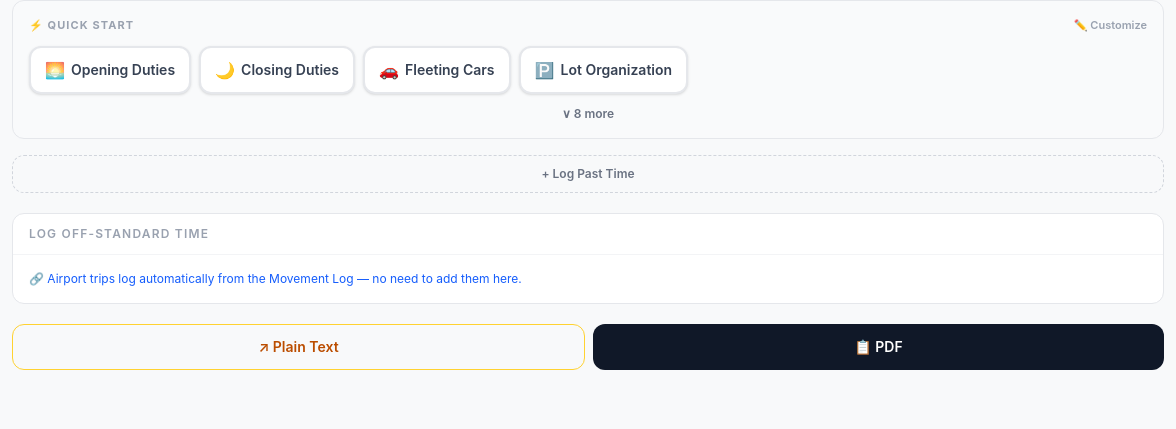
Test: OffStandardTimeLog Component › discards/deletes the timer if ran for less than 5 minutes
The image size is (1176, 429).
Click the text "Opening Duties".
click(123, 70)  # box [71, 60, 175, 80]
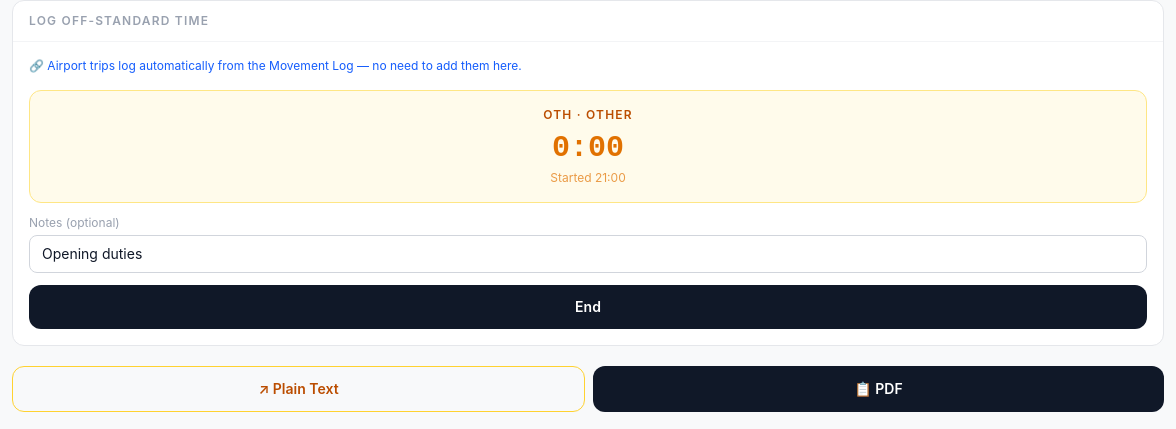
Click the button "End".
click(588, 307)  # box [29, 285, 1147, 329]
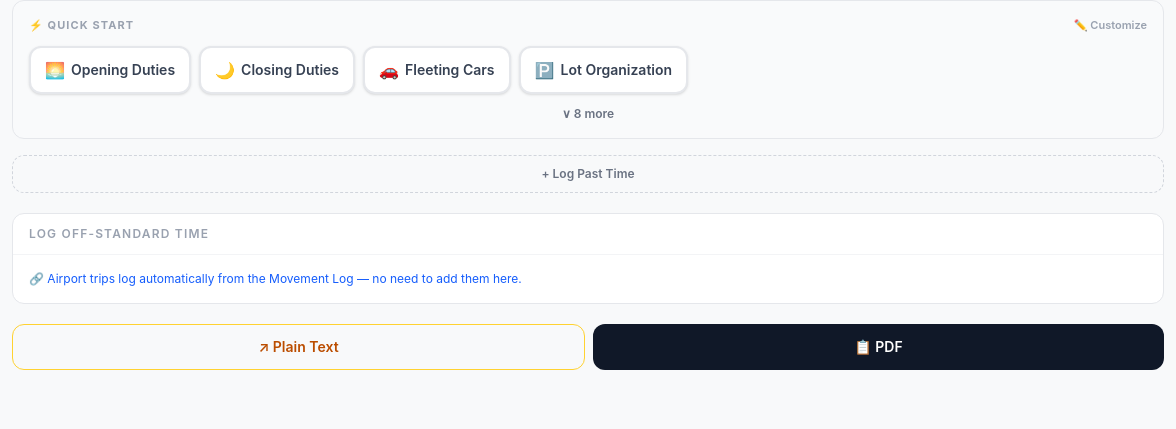
Check: the text "Opening Duties" is shown, box [71, 60, 175, 80]
